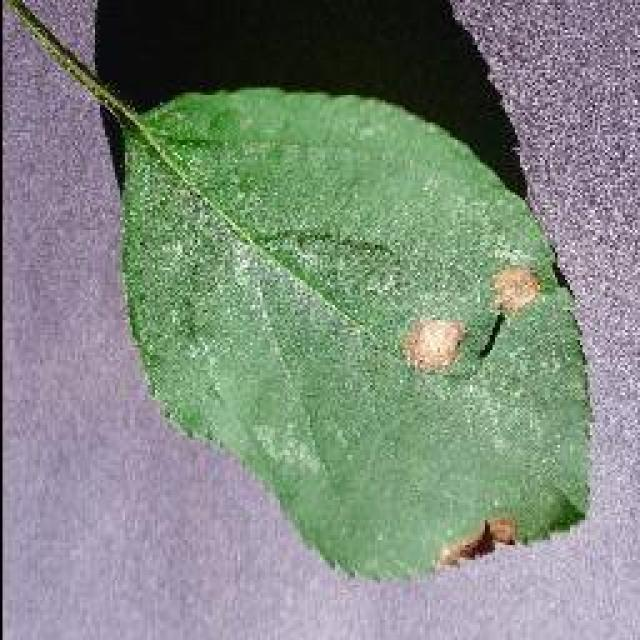Black_rot: (2, 0, 595, 582)
